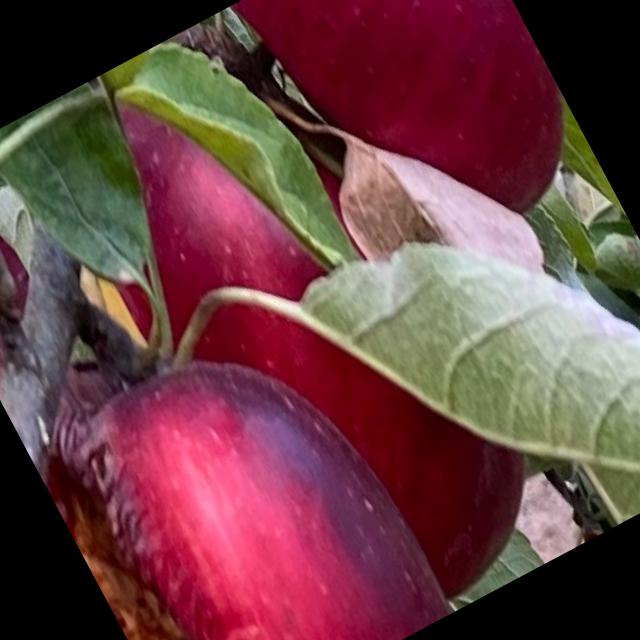Apples: (35, 5, 568, 639), (23, 300, 457, 639), (234, 0, 601, 285)
